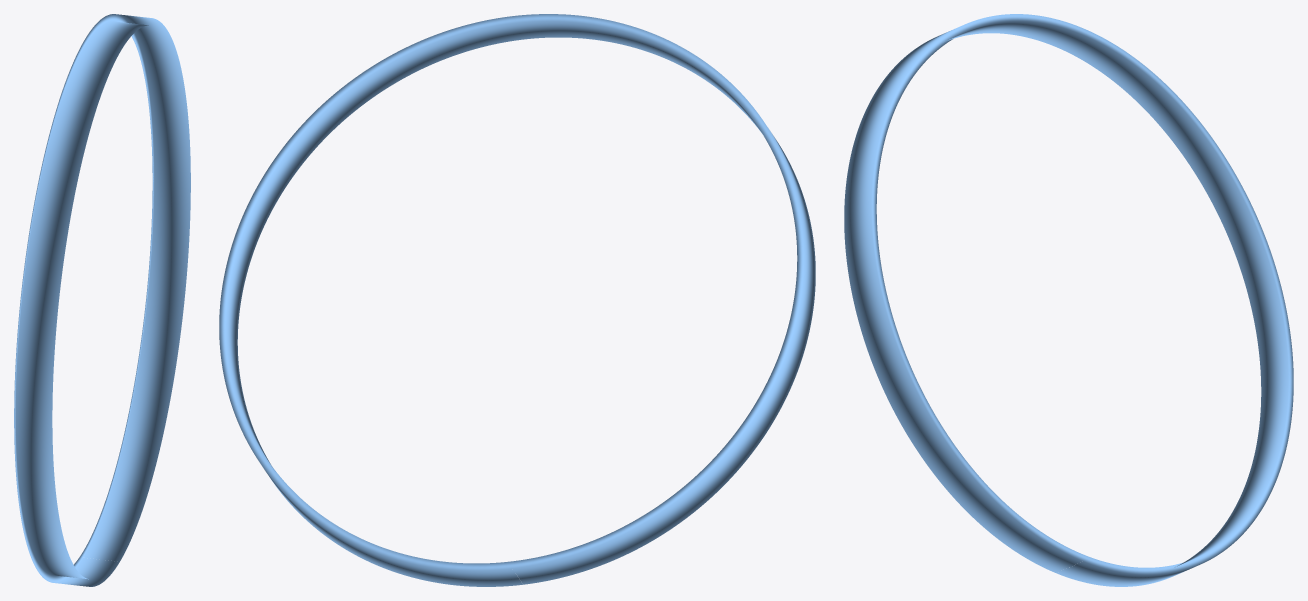
The model's file is coil_coil_5_tube.gltf.
3 views of the same model, side by side, from view 1: azimuth 30°, elevation 25°; view 2: azimuth 150°, elevation 25°; view 3: azimuth 270°, elevation 25° (orthographic). The views are drawn at different scales.
Parts seen in each view (by area): view 1: Renderer Node; view 2: Renderer Node; view 3: Renderer Node.
Part boxes in pixels (left/top/right/bottom): Renderer Node: left=14, top=14, right=190, bottom=586; Renderer Node: left=219, top=14, right=815, bottom=586; Renderer Node: left=844, top=14, right=1293, bottom=586.
Bounding box in the file's own units: 0.4525 × 0.6081 × 0.4638.
